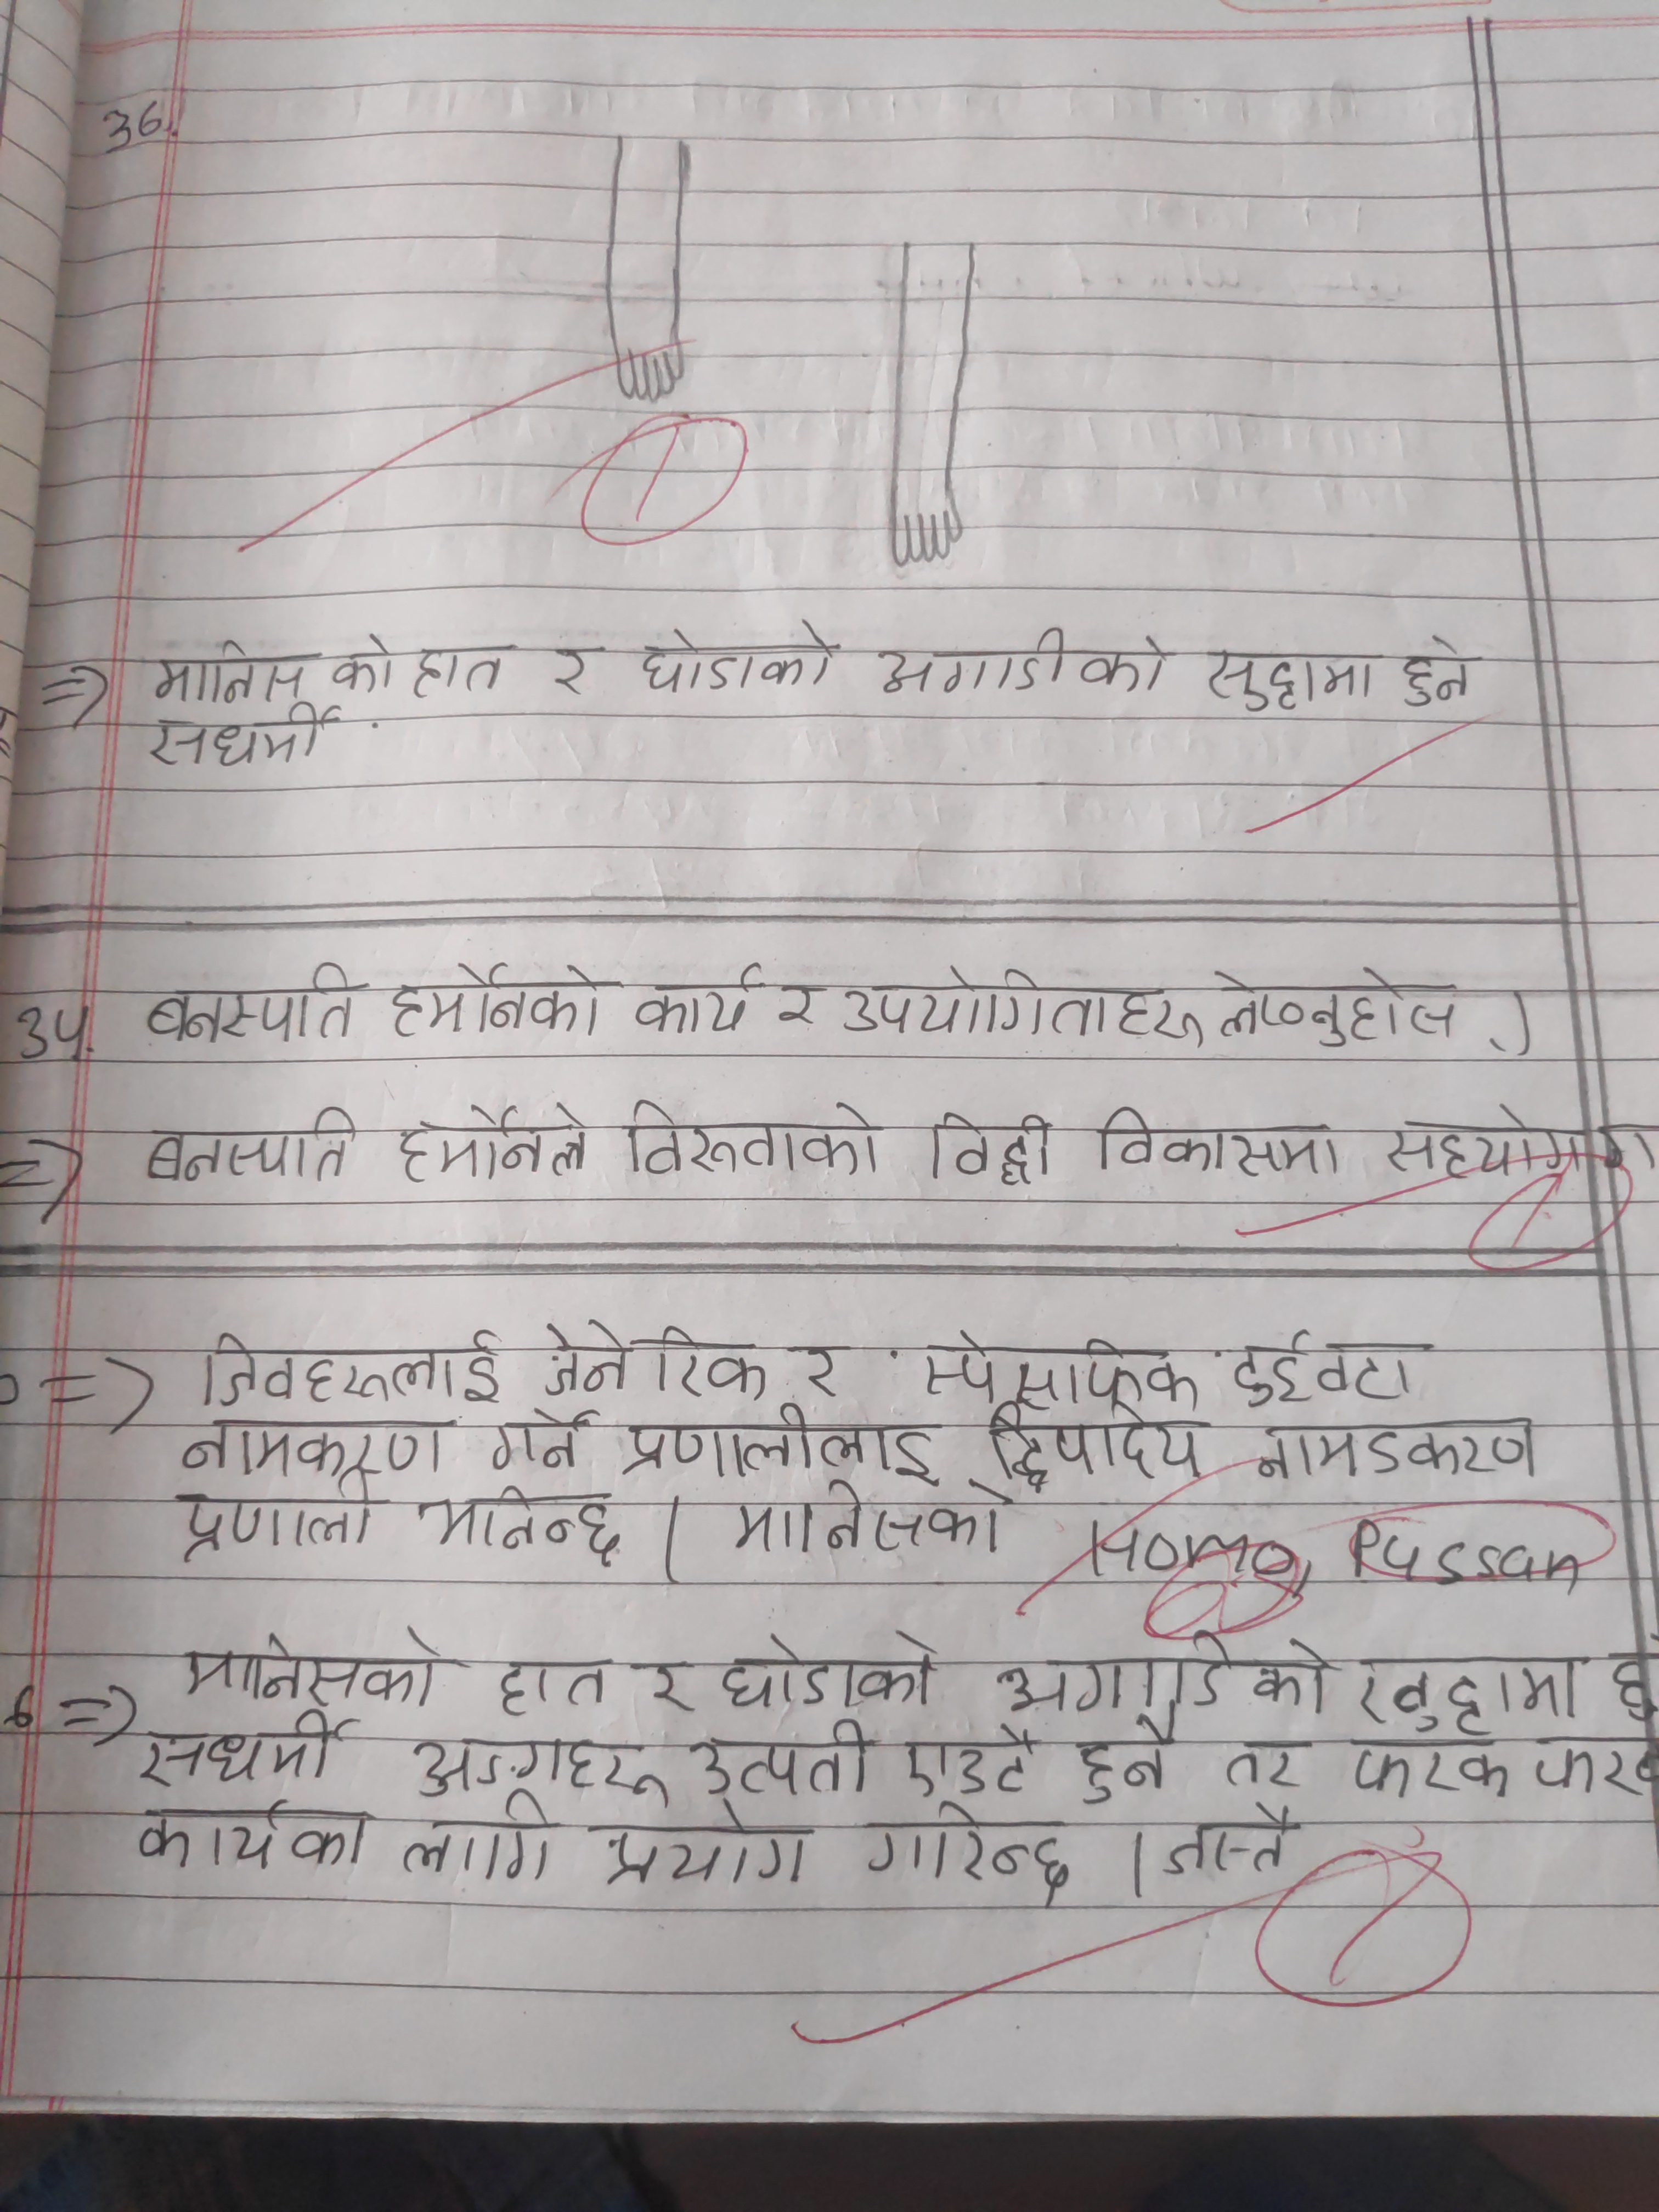text: (842, 963, 1208, 1059), (990, 1635, 1340, 1717), (193, 1322, 502, 1411), (870, 615, 1178, 702), (610, 1090, 892, 1183), (1211, 956, 1471, 1052), (620, 1402, 945, 1479), (904, 1329, 1208, 1409), (735, 1477, 1011, 1564), (1089, 1099, 1345, 1191), (1344, 1641, 1588, 1735), (983, 1395, 1222, 1491), (169, 1630, 448, 1712), (856, 1799, 1082, 1898), (603, 1796, 819, 1897), (1256, 1416, 1554, 1489), (538, 1313, 774, 1406), (173, 1472, 378, 1568), (389, 958, 613, 1043), (176, 1414, 453, 1482), (132, 1104, 364, 1184), (713, 1629, 945, 1709), (143, 961, 369, 1043), (1225, 1334, 1445, 1416), (404, 1731, 666, 1799), (131, 1797, 373, 1871), (687, 1719, 882, 1806), (1387, 1104, 1593, 1186), (415, 1484, 626, 1562), (134, 1707, 342, 1785), (392, 1109, 592, 1186), (399, 1789, 561, 1883), (629, 620, 847, 690), (1201, 636, 1380, 714), (132, 704, 335, 770), (896, 1714, 1044, 1797), (1345, 1735, 1518, 1801), (922, 1108, 1063, 1188), (146, 639, 310, 707), (1162, 1801, 1295, 1881), (633, 963, 769, 1040), (1072, 1719, 1180, 1806), (476, 1407, 589, 1477), (491, 1653, 613, 1717), (1396, 627, 1483, 707), (406, 639, 514, 704), (1218, 1738, 1298, 1799), (331, 629, 403, 697), (1601, 1646, 1659, 1721), (636, 1656, 701, 1721), (791, 1336, 852, 1402), (547, 643, 598, 702), (770, 977, 823, 1033)
